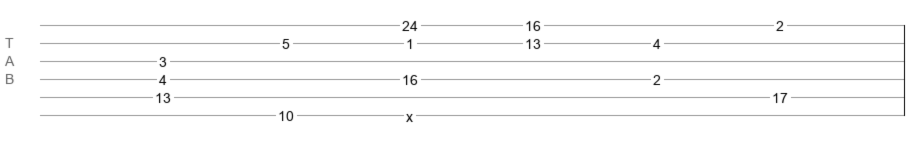1: (406, 36, 414, 46)
10: (278, 108, 294, 118)
13: (155, 90, 171, 100), (525, 36, 541, 46)
16: (402, 72, 418, 82), (525, 18, 541, 28)
17: (772, 90, 788, 100)
2: (653, 72, 661, 82), (776, 18, 784, 28)
24: (402, 18, 418, 28)
3: (159, 54, 167, 64)
4: (159, 72, 167, 82), (653, 36, 661, 46)
5: (282, 36, 290, 46)
x: (406, 109, 413, 117)
